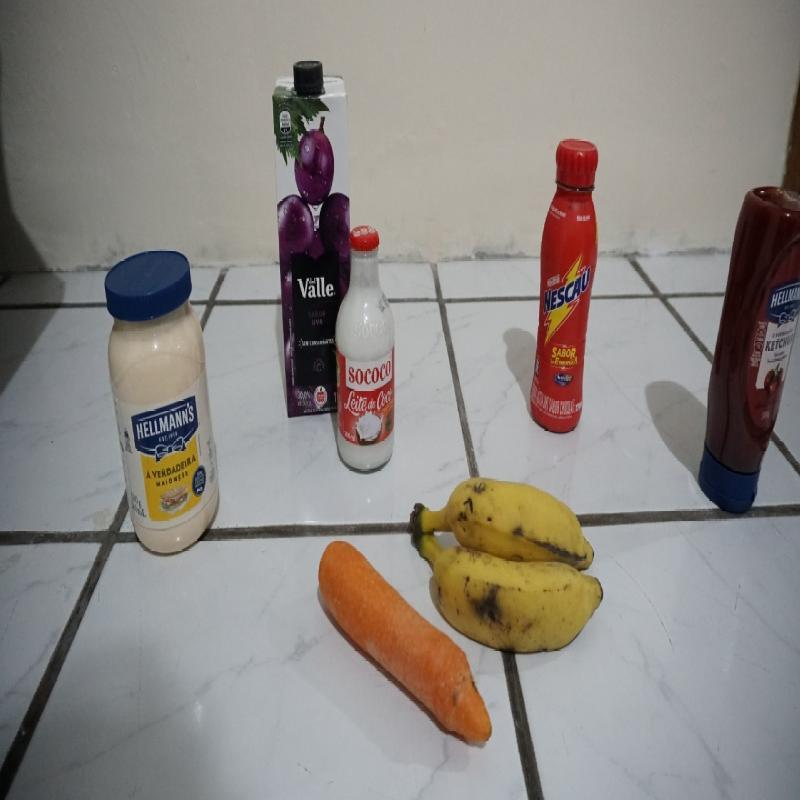Banana: (429, 466, 609, 657)
Carrot: (311, 540, 428, 748)
Chocolate Milk: (533, 136, 600, 430)
Coconut Milk: (327, 223, 401, 470)
Ketchup: (697, 182, 797, 512)
Mayonnaise: (101, 246, 222, 550)
